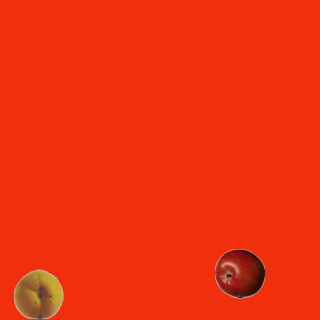Apple Braeburn: (214, 248, 264, 298)
Peach 2: (13, 268, 63, 318)
